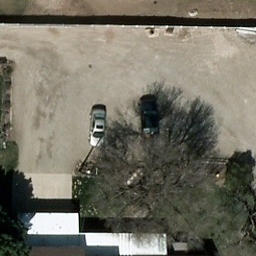car: (89, 108, 105, 147)
pickup: (140, 95, 161, 137)
